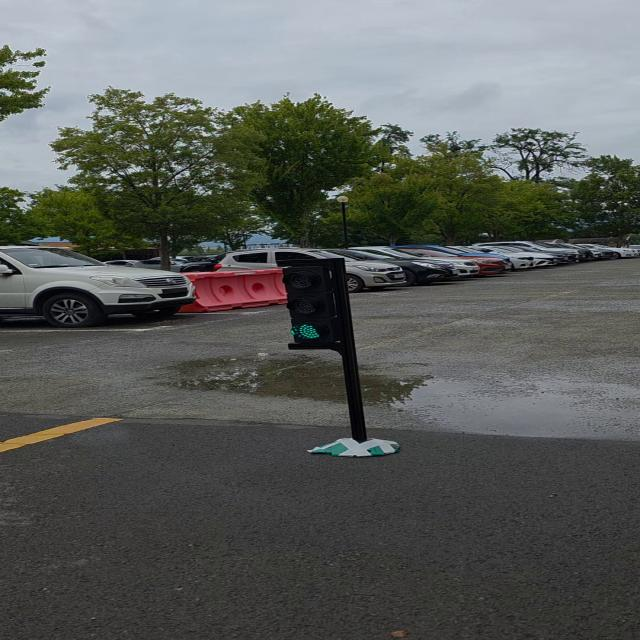green: (286, 260, 347, 346)
